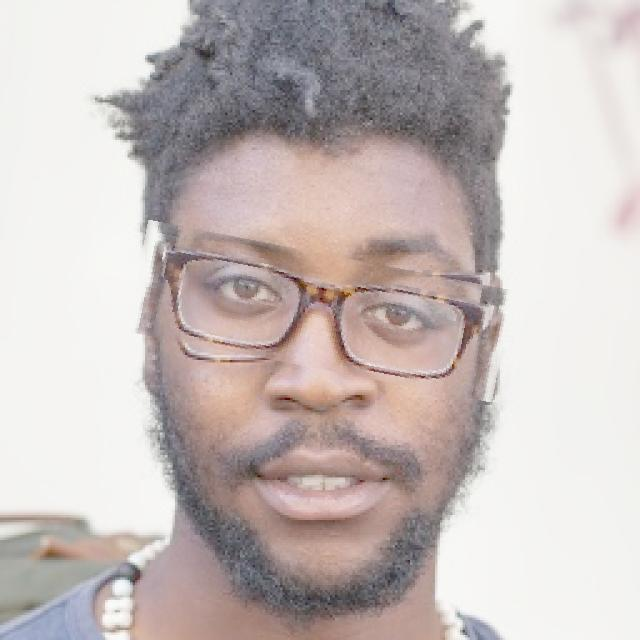glasses: (131, 237, 509, 385)
